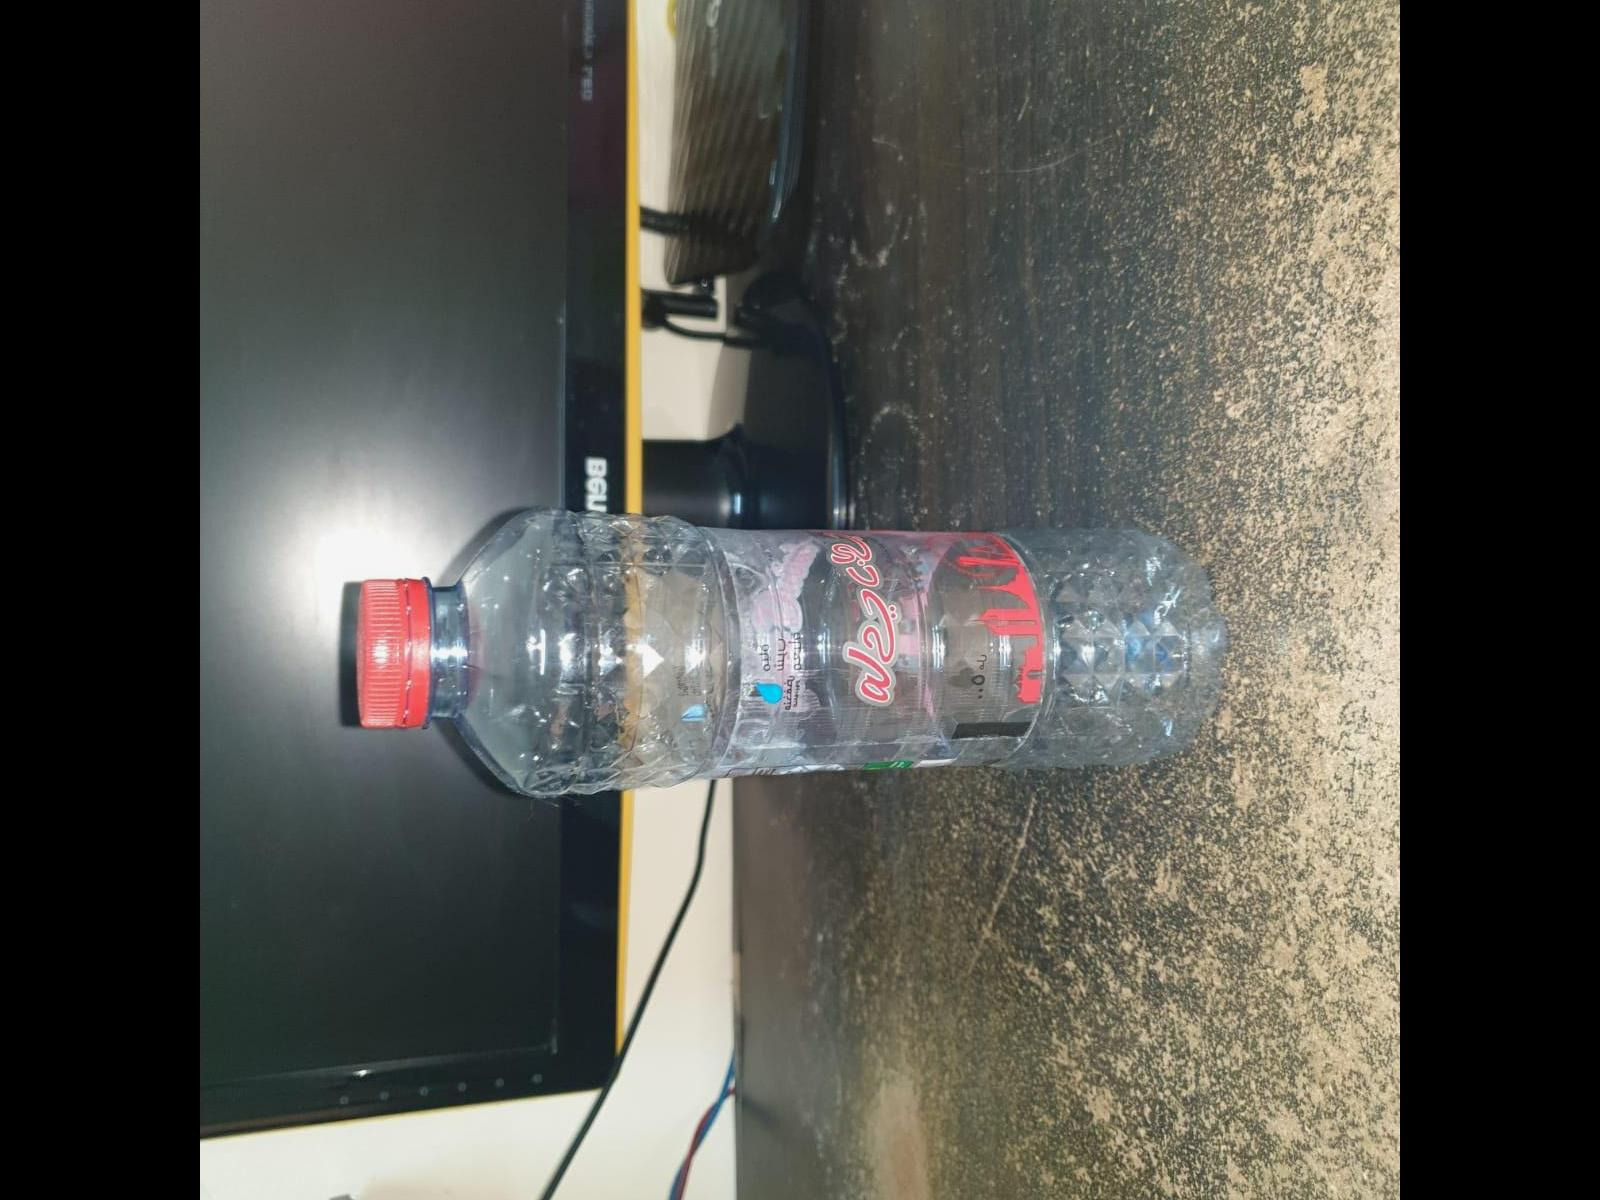bottle: (341, 508, 1225, 808)
